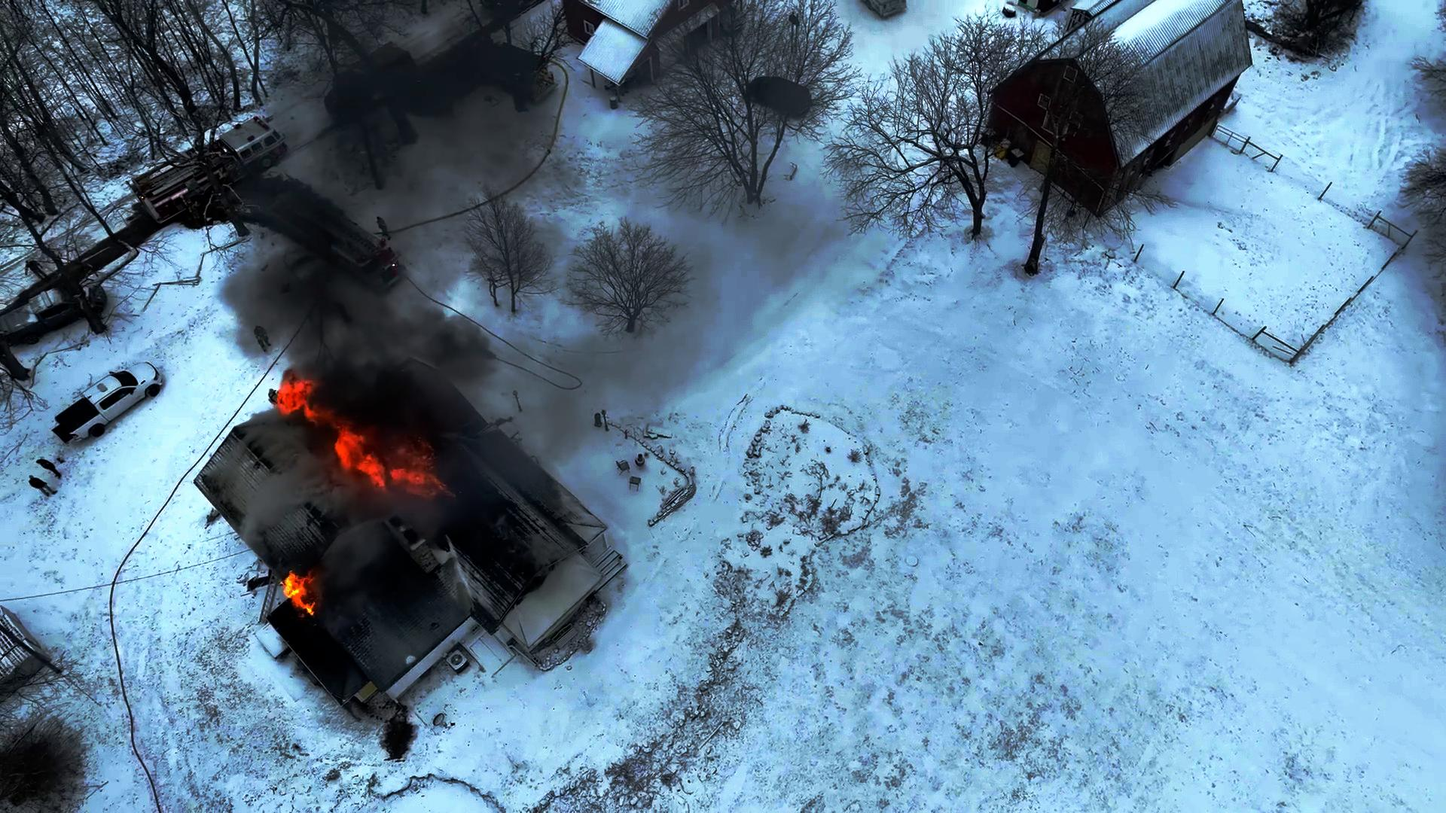fire: (273, 379, 436, 497), (272, 574, 331, 625)
